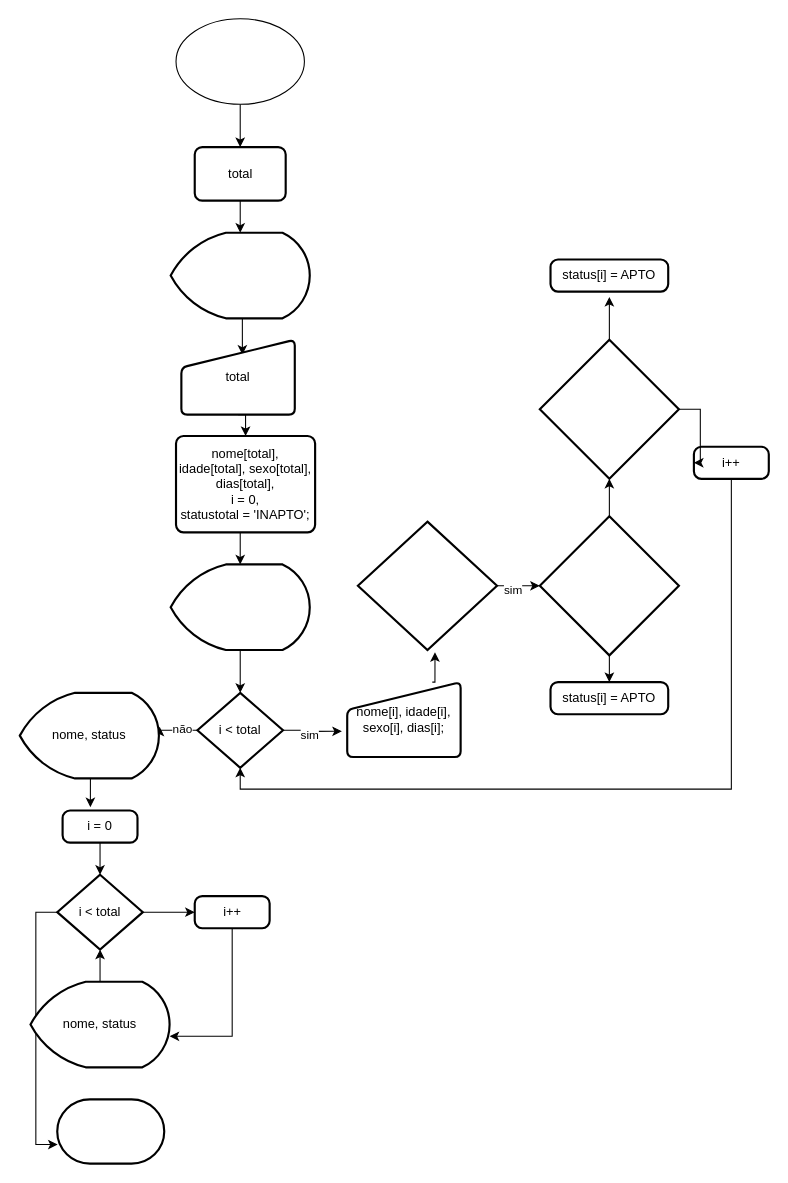
This 788x1183 diagram has some shape labels left out. Each missing label, with the centre of its shape:
"digite o total de doadores": [239,275]
fim: [110,1131]
idade[i] >= 16 && idade[i] < 69: [427,585]
inicio: [239,61]
nome, idade, sexo "M" ou "F", dias;: [239,607]
sexo[i] == 'F' && dias[i] > 90: [608,408]
sexo[i] == 'M && dias[i] > 60: [608,585]
